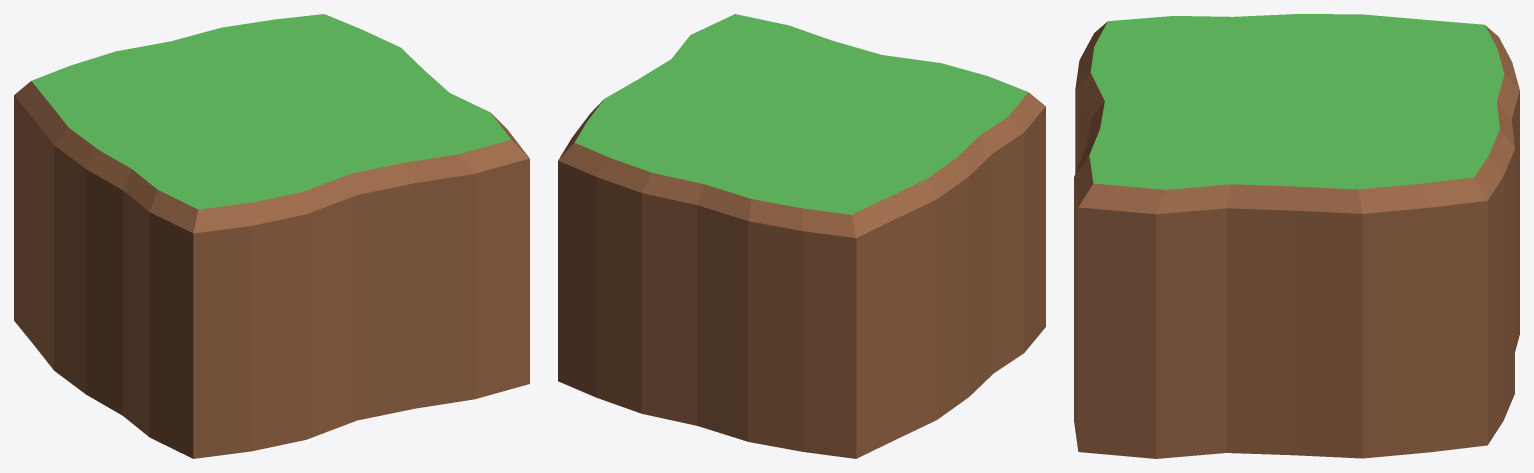
File: plateau.obj
3 renders of one model, left to right at view 1: azimuth 30°, elevation 25°; view 2: azimuth 150°, elevation 25°; view 3: azimuth 270°, elevation 25°, orthographic. The views are drawn at different scales.
Parts seen in each view (by area): view 1: plateau; view 2: plateau; view 3: plateau.
Boxes of the visible parts, <box> form: plateau: <box>14,14,529,458</box>; plateau: <box>558,14,1045,458</box>; plateau: <box>1074,14,1519,458</box>.
Bounding box in the file's own units: 11.48 × 7.44 × 11.45.
1 material, 1 textured.
